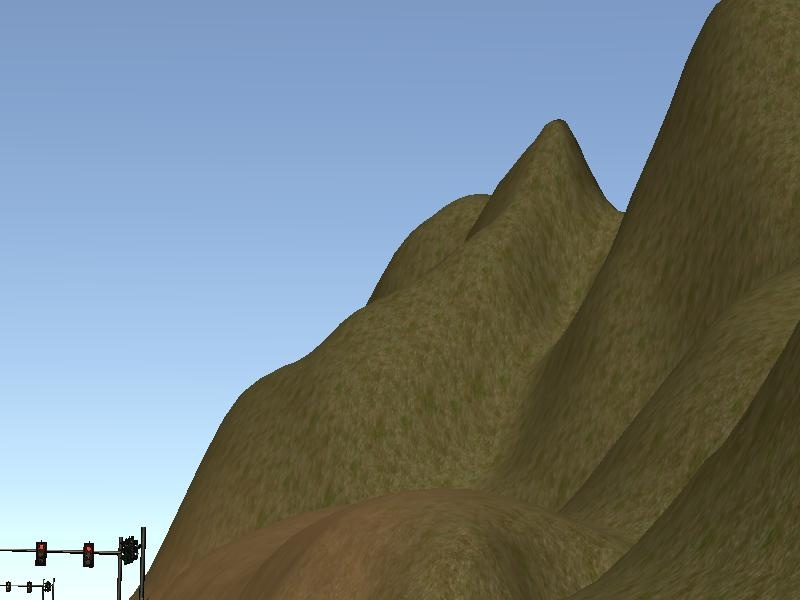traffic_light_red: (2, 541, 120, 569)
